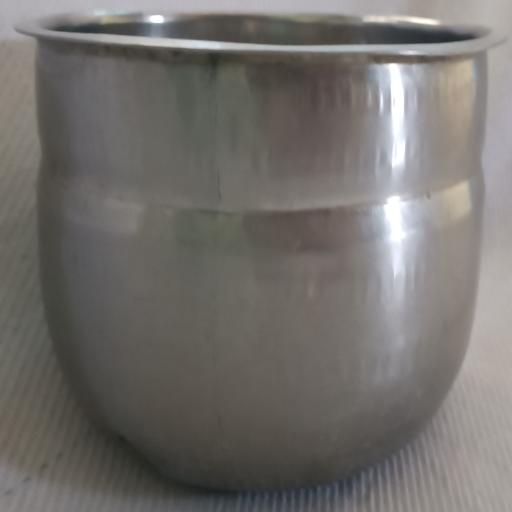vessel: (18, 13, 500, 488)
